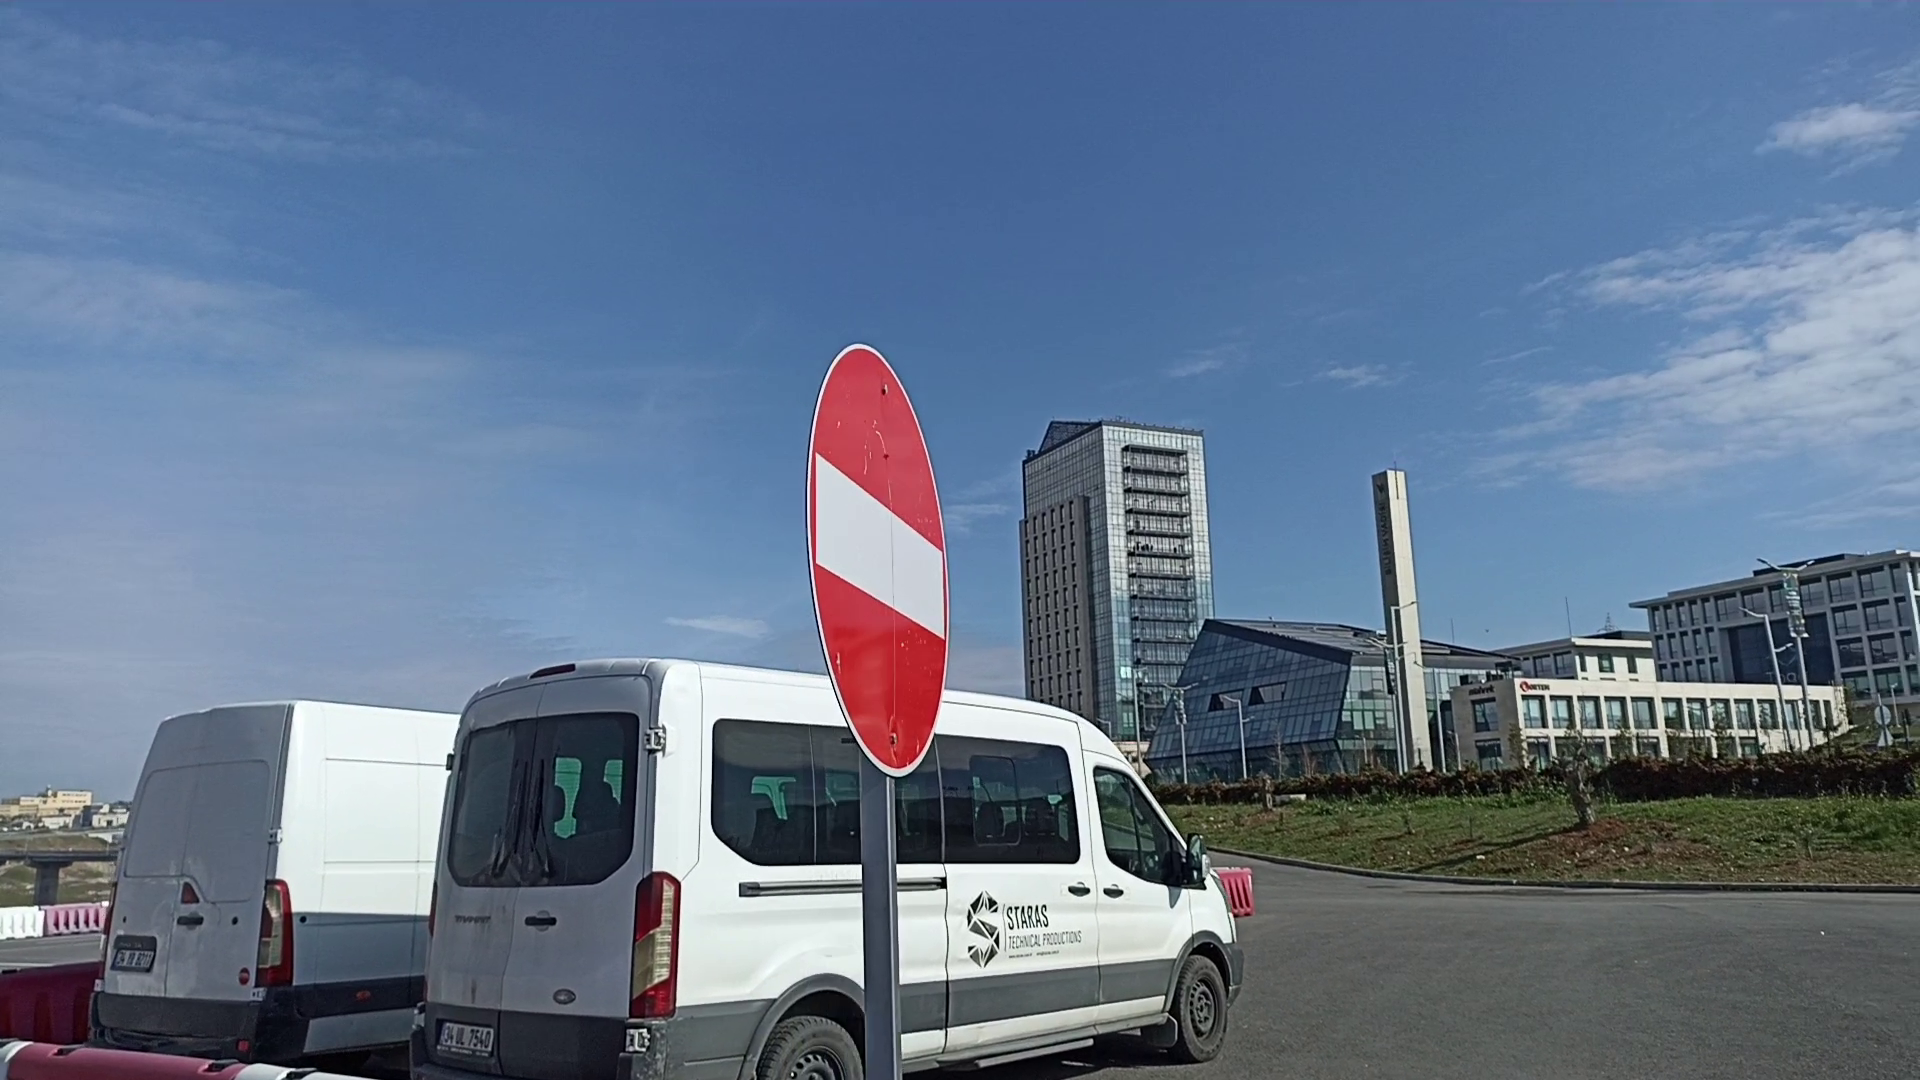noentryway: (802, 339, 953, 785)
